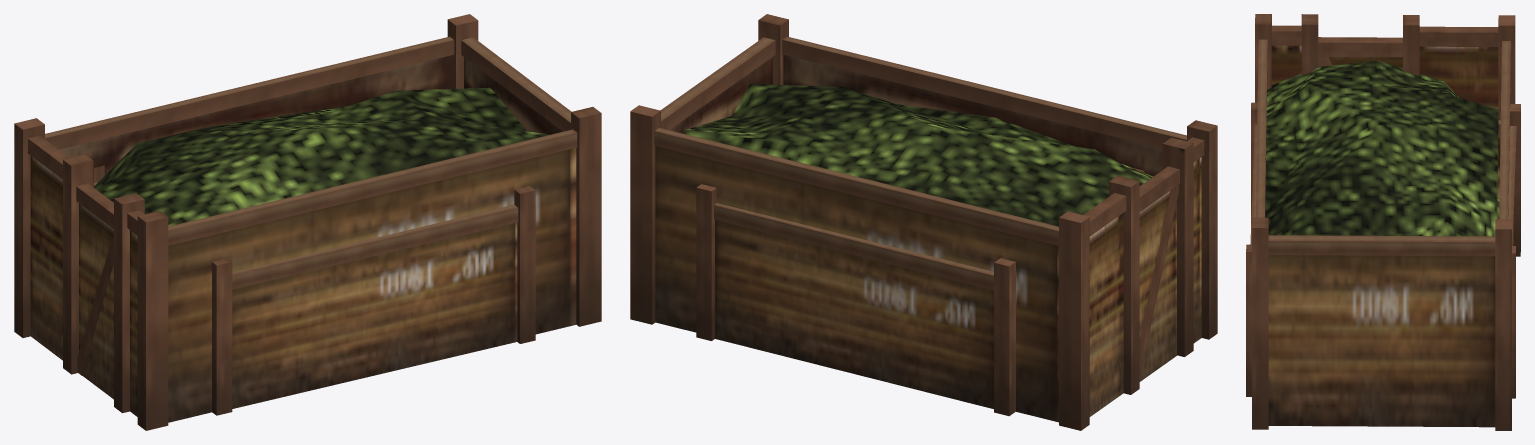
The model's file is props.gltf.
3 renders of one model, left to right at view 1: azimuth 30°, elevation 25°; view 2: azimuth 150°, elevation 25°; view 3: azimuth 270°, elevation 25°, orthographic. The views are drawn at different scales.
Visible parts, largest first — view 1: _crate_0_lod0, _crate_1_lod0; view 2: _crate_0_lod0, _crate_1_lod0; view 3: _crate_0_lod0, _crate_1_lod0.
Boxes of the visible parts, x1,y1,x2,y2 form: _crate_0_lod0: (14, 14, 601, 430); _crate_1_lod0: (93, 165, 535, 415); _crate_0_lod0: (630, 14, 1217, 430); _crate_1_lod0: (696, 168, 1144, 416); _crate_0_lod0: (1252, 14, 1515, 430); _crate_1_lod0: (1246, 102, 1520, 398).
Size of the model in its own units: 0.4851 by 0.212 by 0.2616.
Materials: 2 (2 with a texture image).
